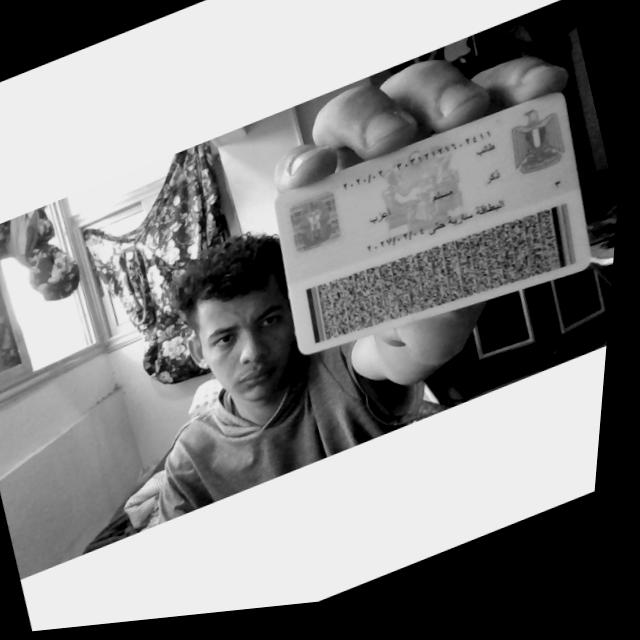back: (273, 93, 588, 353)
